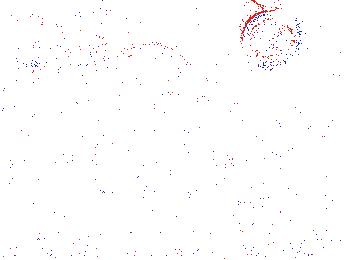moon jellyfish: (171, 79, 249, 168), (25, 21, 107, 69), (115, 44, 195, 92), (241, 9, 301, 66), (11, 1, 111, 29), (311, 21, 346, 77)
